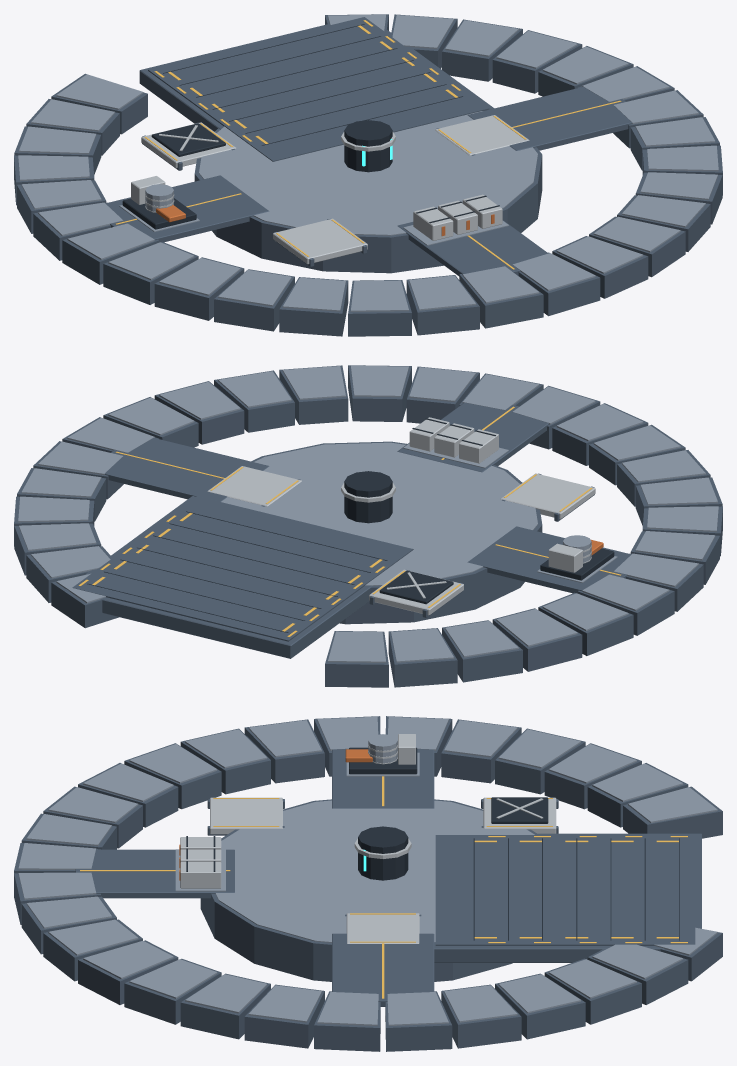
File: interior.glb
3 views of the same model, one above another, from view 1: azimuth 30°, elevation 25°; view 2: azimuth 150°, elevation 25°; view 3: azimuth 270°, elevation 25° (orthographic). The views are drawn at different scales.
Visible parts, largest first — view 1: Hangar inset deck__StationInterior_ROOT, Cutaway hub deck__StationInterior_ROOT, Cutaway hub foundation__StationInterior_ROOT, Detail cutaway corridor 0__StationInterior_ROOT, Detail cutaway corridor 3.141592653589793__StationInterior_R, Detail cutaway corridor -1.5707963267948966__StationInterior, Socket_A mounting deck__StationInterior_ROOT, Hangar deck__StationInterior_ROOT, Socket_B mounting deck__StationInterior_ROOT, Cutaway ring foundation 22, Reactor_Upgrade drum__StationInterior_ROOT, Cutaway ring foundation 19 (+59 smaller); view 2: Hangar inset deck__StationInterior_ROOT, Cutaway hub deck__StationInterior_ROOT, Detail cutaway corridor 0__StationInterior_ROOT, Hangar deck__StationInterior_ROOT, Detail cutaway corridor 3.141592653589793__StationInterior_R, Cutaway hub foundation__StationInterior_ROOT, Detail cutaway corridor -1.5707963267948966__StationInterior, Socket_A mounting deck__StationInterior_ROOT, Reactor_Upgrade drum__StationInterior_ROOT, Socket_B mounting deck__StationInterior_ROOT, Cutaway ring foundation 12, Cutaway ring foundation 11 (+60 smaller); view 3: Hangar inset deck__StationInterior_ROOT, Cutaway hub deck__StationInterior_ROOT, Cutaway hub foundation__StationInterior_ROOT, Detail cutaway corridor 0__StationInterior_ROOT, Detail cutaway corridor -1.5707963267948966__StationInterior, Detail cutaway corridor 3.141592653589793__StationInterior_R, Hangar deck__StationInterior_ROOT, Socket_A mounting deck__StationInterior_ROOT, Reactor_Upgrade drum__StationInterior_ROOT, Socket_B mounting deck__StationInterior_ROOT, Cutaway ring foundation 01, Cutaway ring foundation 30 (+59 smaller).
Boxes of the visible parts, <box> form: Hangar inset deck__StationInterior_ROOT: <box>148,17,489,161</box>; Cutaway hub deck__StationInterior_ROOT: <box>199,111,537,235</box>; Cutaway hub foundation__StationInterior_ROOT: <box>194,128,542,273</box>; Detail cutaway corridor 0__StationInterior_ROOT: <box>467,87,632,150</box>; Detail cutaway corridor 3.141592653589793__StationInterior_R: <box>105,175,269,242</box>; Detail cutaway corridor -1.5707963267948966__StationInterior: <box>397,220,548,276</box>; Socket_A mounting deck__StationInterior_ROOT: <box>273,218,367,264</box>; Hangar deck__StationInterior_ROOT: <box>139,23,494,131</box>; Socket_B mounting deck__StationInterior_ROOT: <box>435,115,529,155</box>; Cutaway ring foundation 22: <box>406,275,479,335</box>; Reactor_Upgrade drum__StationInterior_ROOT: <box>344,120,392,172</box>; Cutaway ring foundation 19: <box>214,269,294,331</box>; Hangar inset deck__StationInterior_ROOT: <box>72,496,413,641</box>; Cutaway hub deck__StationInterior_ROOT: <box>221,442,537,585</box>; Detail cutaway corridor 0__StationInterior_ROOT: <box>104,438,269,501</box>; Hangar deck__StationInterior_ROOT: <box>64,496,371,658</box>; Detail cutaway corridor 3.141592653589793__StationInterior_R: <box>467,526,631,593</box>; Cutaway hub foundation__StationInterior_ROOT: <box>251,441,542,624</box>; Detail cutaway corridor -1.5707963267948966__StationInterior: <box>397,402,549,472</box>; Socket_A mounting deck__StationInterior_ROOT: <box>501,473,595,519</box>; Reactor_Upgrade drum__StationInterior_ROOT: <box>344,471,392,523</box>; Socket_B mounting deck__StationInterior_ROOT: <box>207,466,301,506</box>; Cutaway ring foundation 12: <box>442,620,522,682</box>; Cutaway ring foundation 11: <box>388,628,457,687</box>; Hangar inset deck__StationInterior_ROOT: <box>435,835,695,945</box>; Cutaway hub deck__StationInterior_ROOT: <box>215,800,534,942</box>; Cutaway hub foundation__StationInterior_ROOT: <box>200,799,536,981</box>; Detail cutaway corridor 0__StationInterior_ROOT: <box>332,933,434,1006</box>; Detail cutaway corridor -1.5707963267948966__StationInterior: <box>75,849,234,898</box>; Detail cutaway corridor 3.141592653589793__StationInterior_R: <box>332,749,434,808</box>; Hangar deck__StationInterior_ROOT: <box>434,833,701,962</box>; Socket_A mounting deck__StationInterior_ROOT: <box>210,797,282,834</box>; Reactor_Upgrade drum__StationInterior_ROOT: <box>358,826,408,880</box>; Socket_B mounting deck__StationInterior_ROOT: <box>346,913,419,943</box>; Cutaway ring foundation 01: <box>441,984,521,1048</box>; Cutaway ring foundation 30: <box>244,984,324,1048</box>.
Size of the model in its own units: 32.4 by 3.5 by 31.12.
